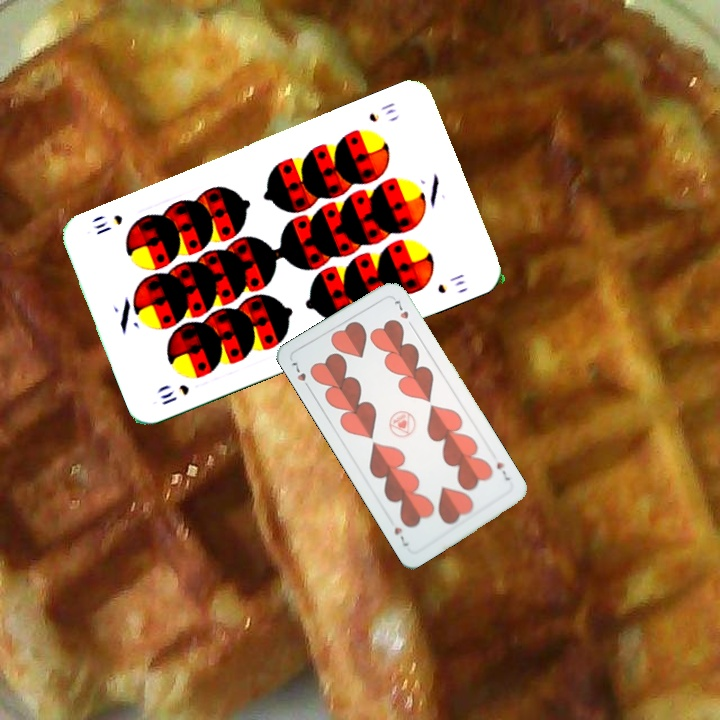H7: (287, 357, 314, 393), (492, 458, 513, 484)
S10: (156, 380, 192, 408), (365, 98, 399, 125)
